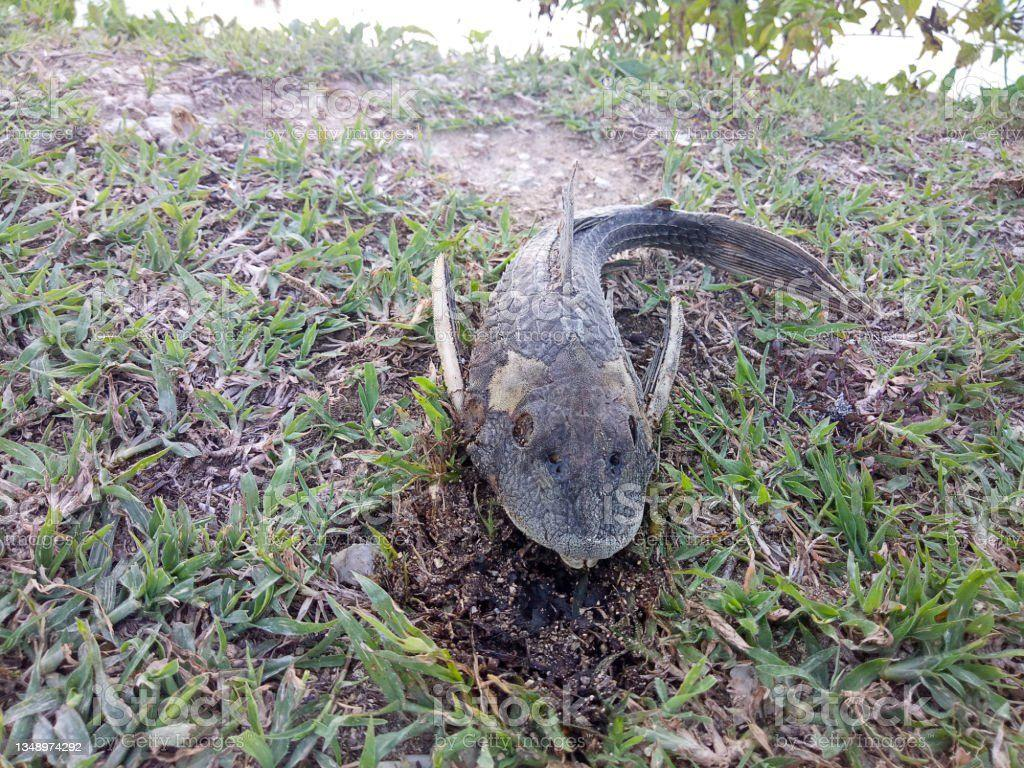Janitor Fish: (415, 186, 852, 574)
